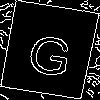G: (24, 25, 77, 78)
